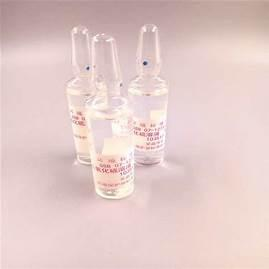Syringe: (82, 30, 140, 204), (131, 19, 173, 171), (58, 23, 89, 170)
